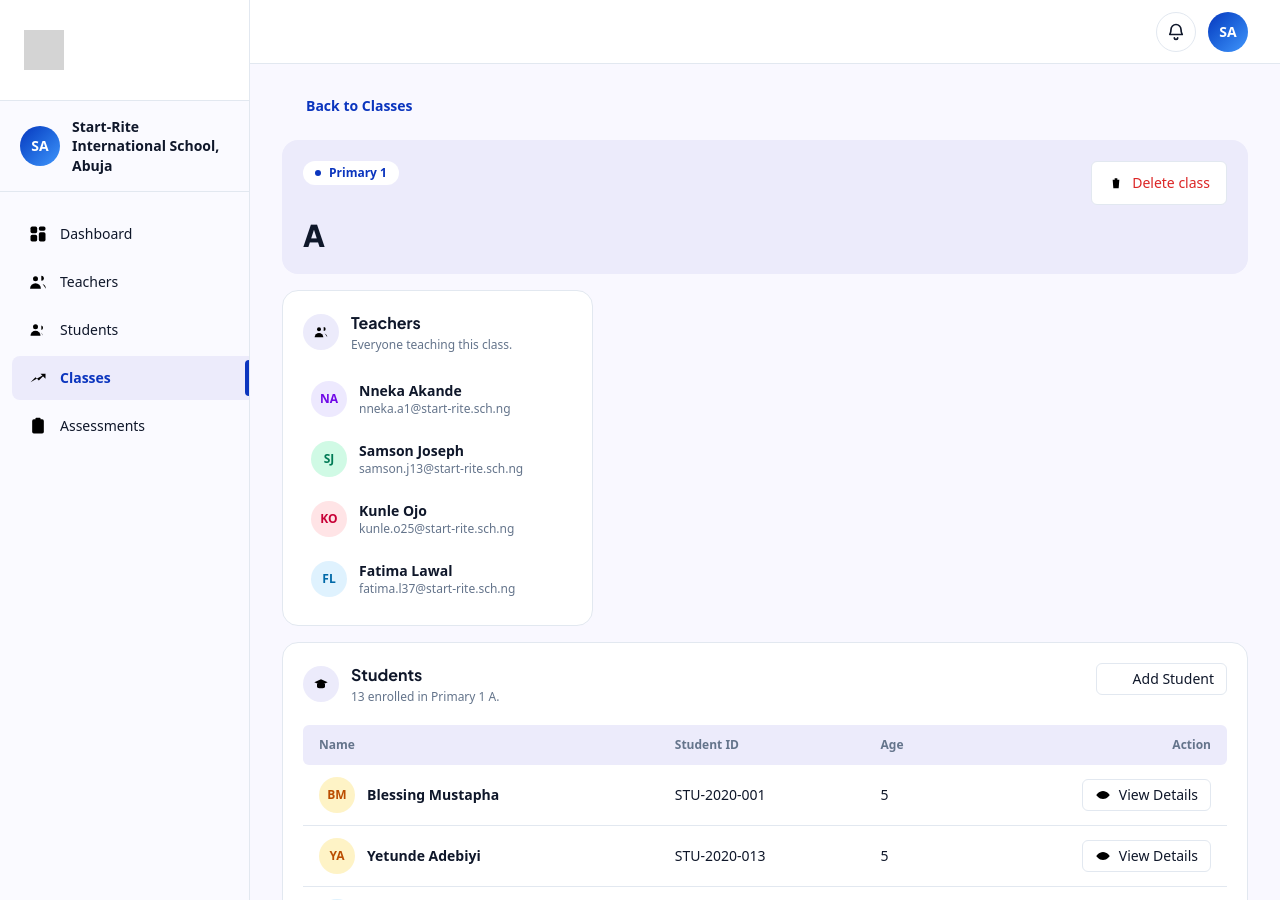
Test: ClassDetailPage › refuses to delete an occupied class and offers to transfer its students
Expected: the heading "A" is shown, [303, 216, 325, 254]
Click the button "Delete class". click: coordinates (1159, 183)
box: [1091, 161, 1227, 205]
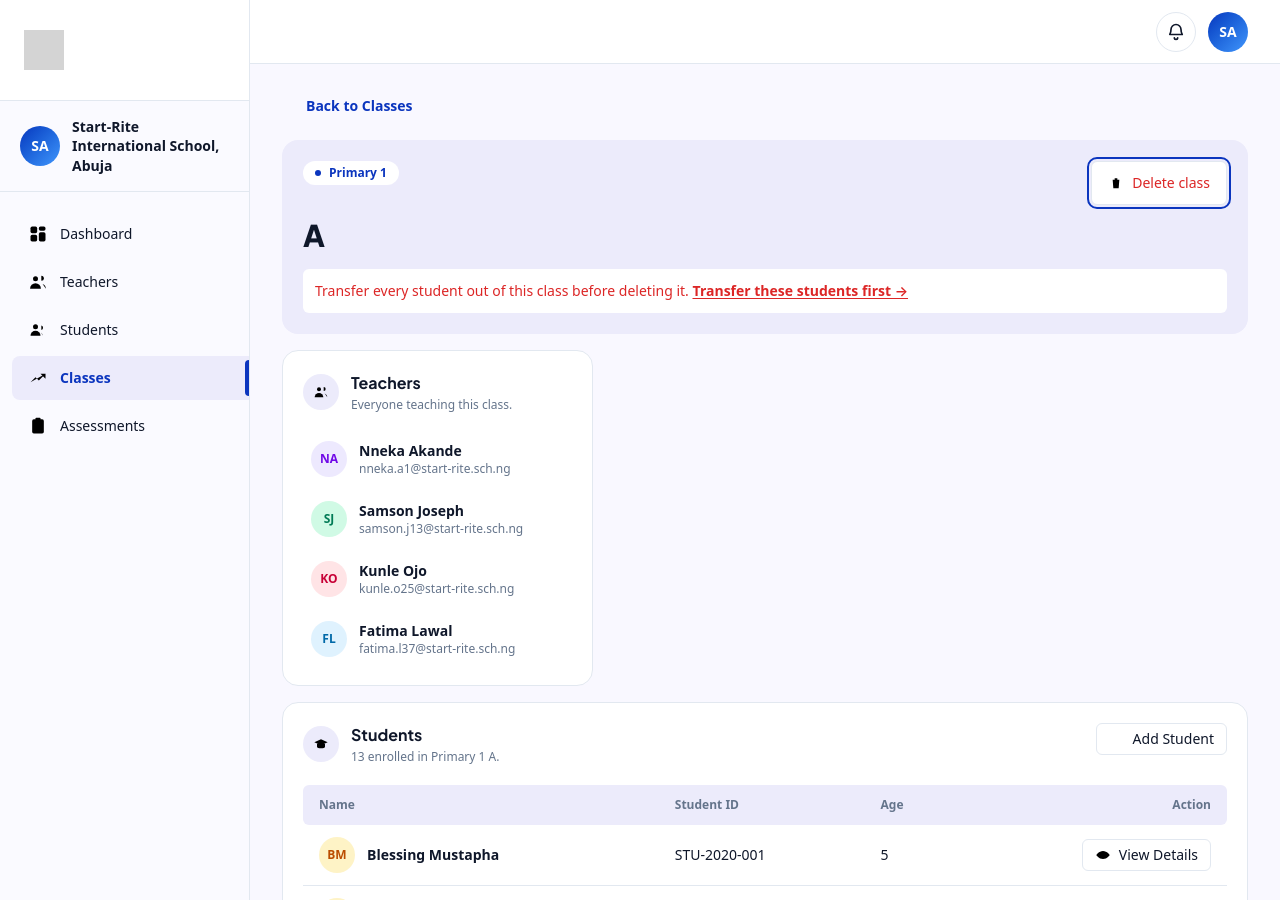
Expected: the text "Transfer every student out of this class before deleting it." is shown, [315, 281, 689, 300]
